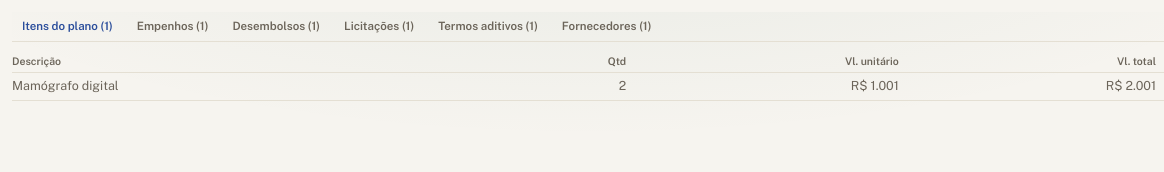
Test: coleções oficiais do SICONV em celular e desktop › apresenta Desembolsos sem misturar repasse e pagamento ao fornecedor
This screenshot has width=1164, height=172.
Click the button "Desembolsos (1)" at x=276, y=27, box [222,12,330,41]
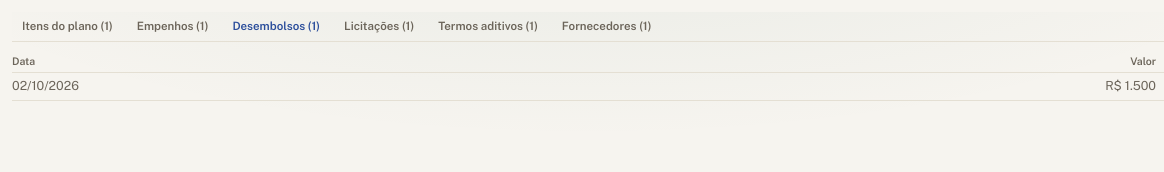
Check: the text "02/10/2026" is shown, box [12,72,657,100]
